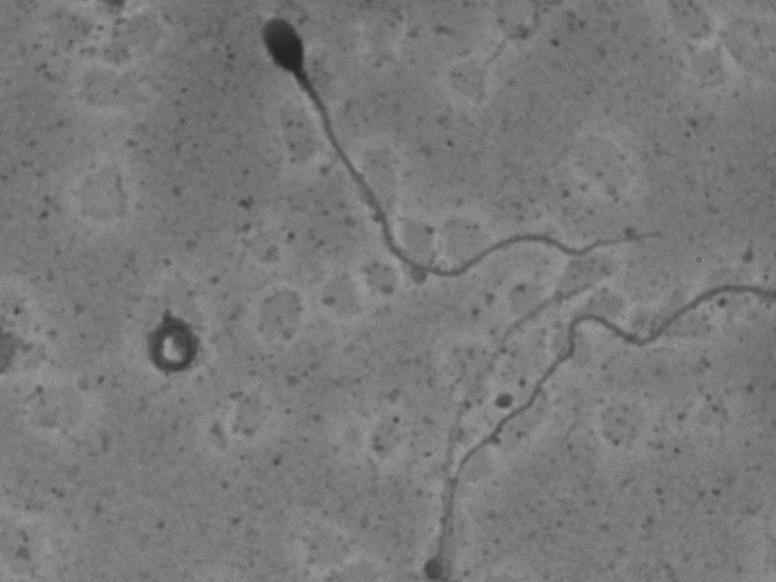Normal: (252, 8, 668, 287)
